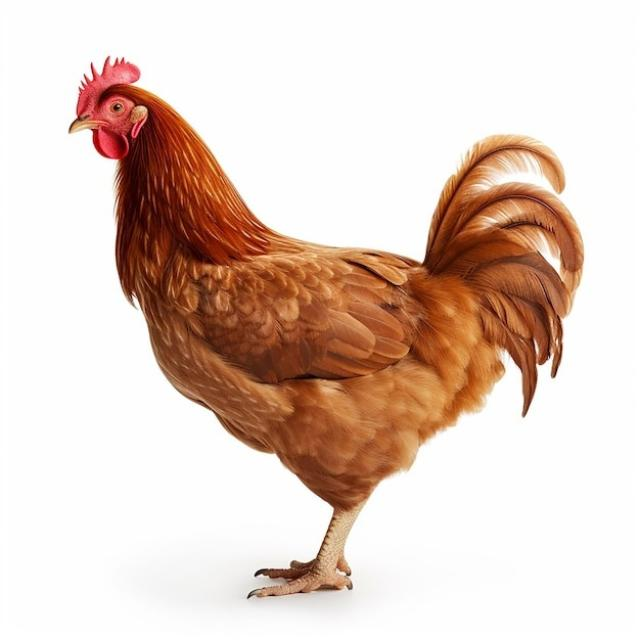Chicken: (66, 55, 583, 600)
